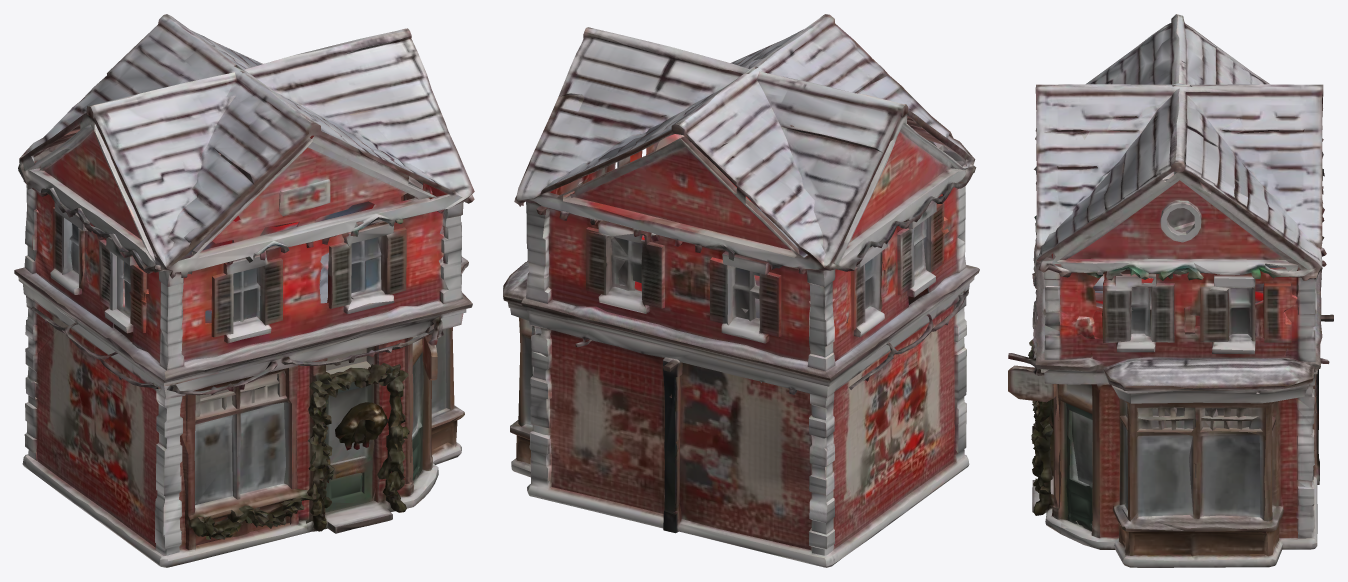
File: B_CORNER_SHOP_neon.glb
3 views of the same model, side by side, from view 1: azimuth 30°, elevation 25°; view 2: azimuth 150°, elevation 25°; view 3: azimuth 270°, elevation 25° (orthographic). The views are drawn at different scales.
Visible parts, largest first — view 1: world; view 2: world; view 3: world.
Boxes of the visible parts, box(x1,y1,x2,y2) form: world: box(14, 14, 474, 567); world: box(503, 14, 979, 567); world: box(1008, 14, 1333, 567).
Bounding box in the file's own units: 0.9186 × 1 × 0.7524.
1 material, 1 textured.
